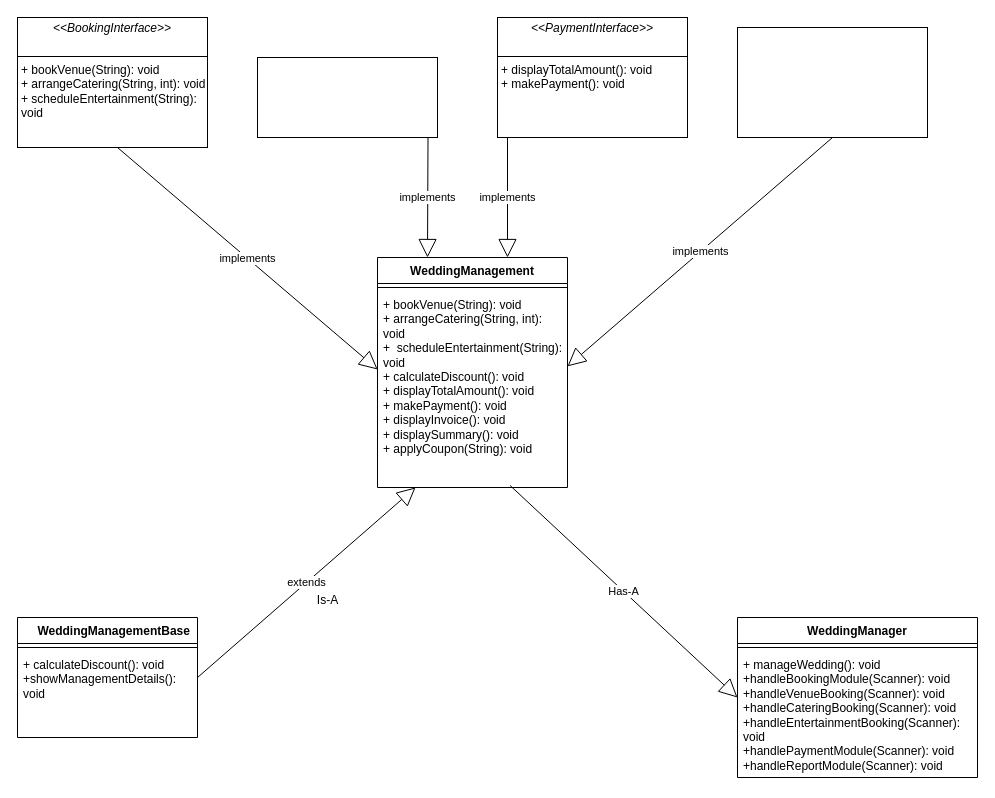
Some shapes in this 995 by 798 pixel diagram are drawn without their labels. Here are the shapes that lost their labels. From the top down, the centre of each, then its label:
At [347,97]: "<<CouponInterface>> + applyCoupon(String): void".
At [832,82]: "<<ReportInterface>> + displayInvoice(): void + displaySummary(): void".
